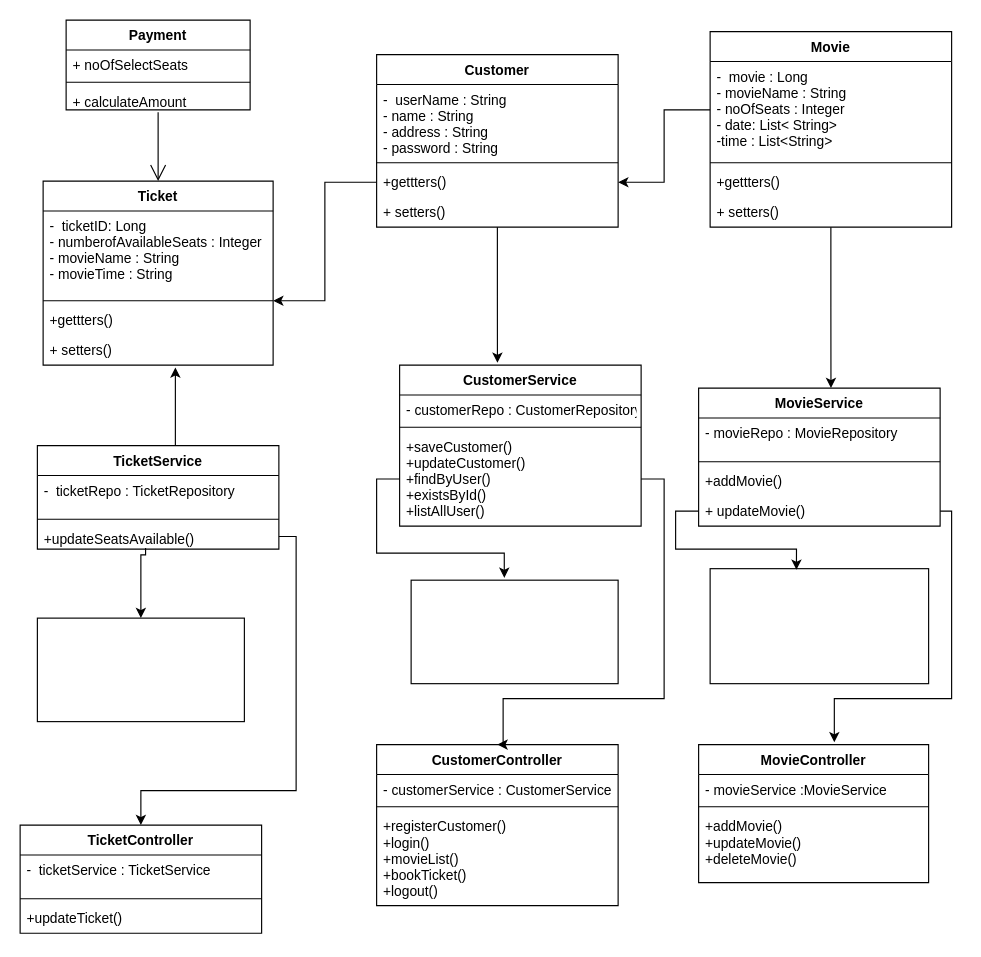
Image size: 981x957. Some labels were removed from this diagram. Here are the shapes that lost their labels. From the top down, the centre of each, then its label:
At point (514, 631): "customer PK user_name name address password".
At point (819, 626): "movie PK movie_id movie_name no_of_seats date time".
At point (140, 669): "ticket PK user_name ticket_id number_of_available_seats".
